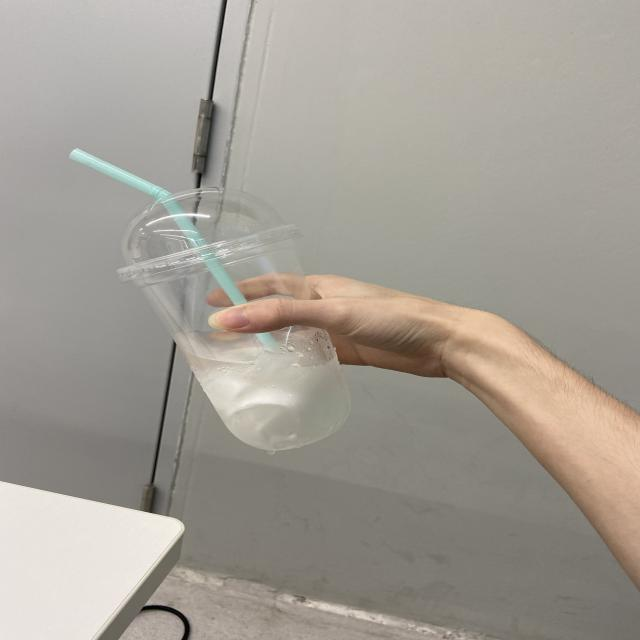cup: (120, 187, 355, 452)
